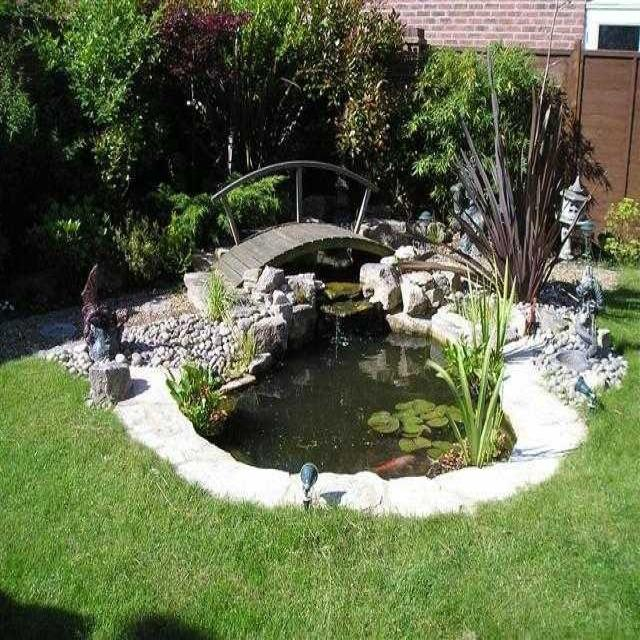Ponds: (113, 243, 593, 518)
